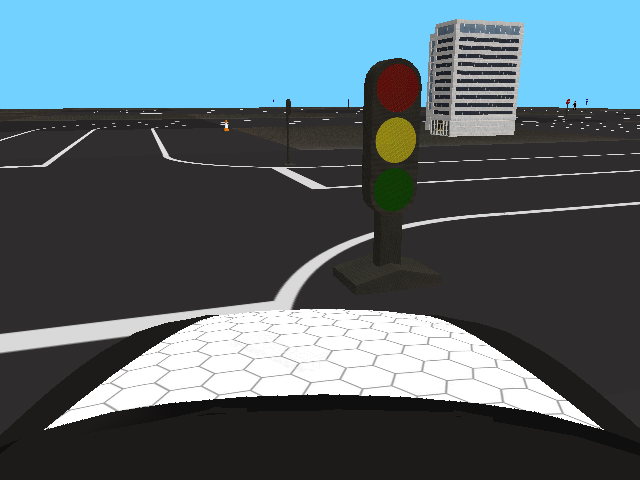yellow_light: (362, 56, 418, 214)
